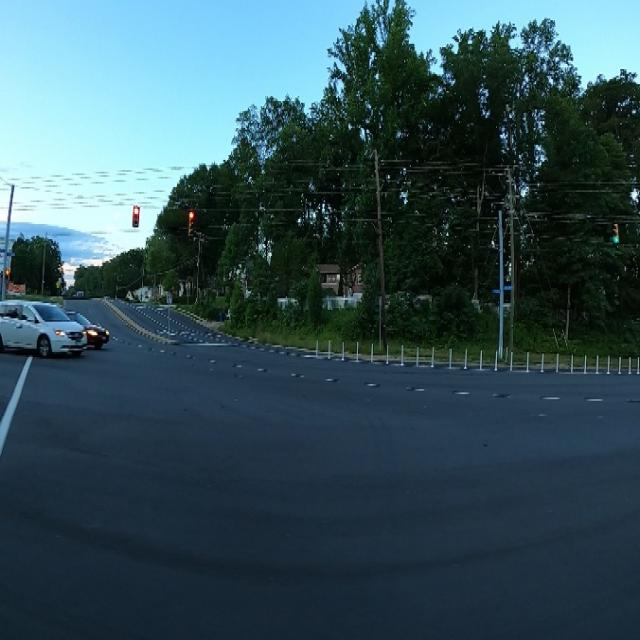cars: (0, 296, 87, 356), (60, 307, 110, 348)
